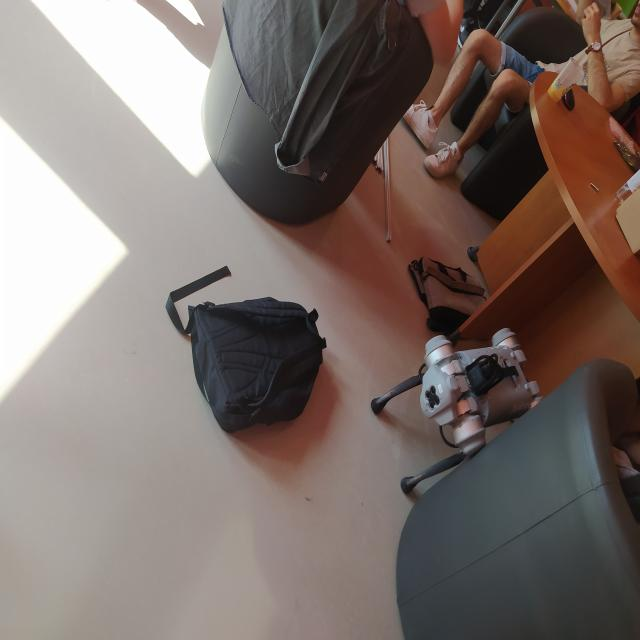unitree-go1-robot: (368, 315, 548, 514)
